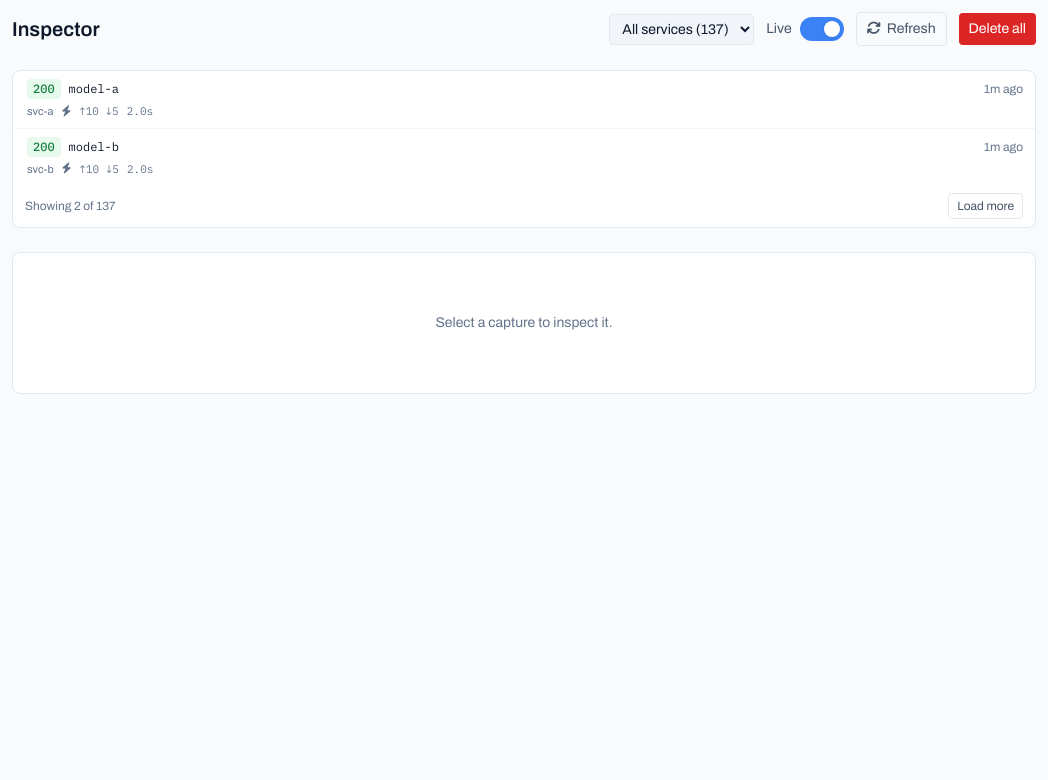
Scenario: InspectorPage url state › selecting a row writes ?capture= and loads the detail
Click the text "model-a". click: (94, 89)
box: [69,81,119,97]
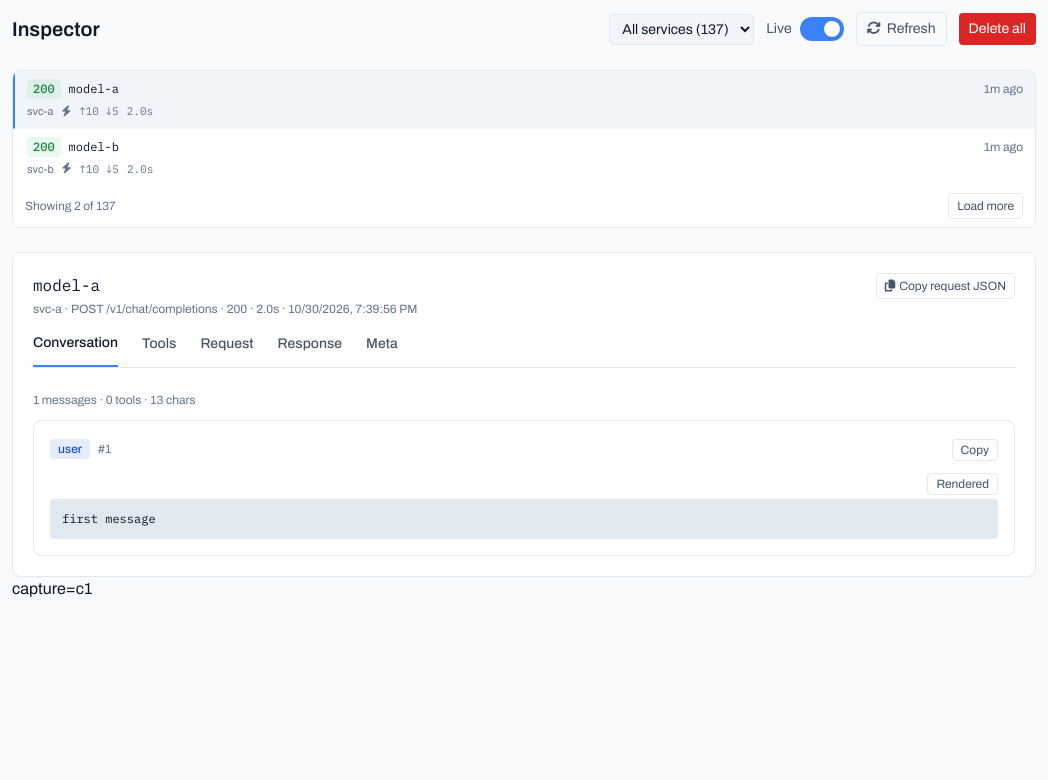
Expected: the text with test id "probe" reads "capture=c1", [12,580,92,597]
Expected: the text "first message" is shown, [50,499,998,539]
